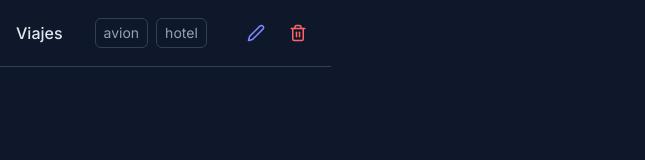
Test: CategoryRow component › should transition to edit mode when Edit button is clicked
Click the button titled "Editar Categoría" at (256, 33), box top-left (239, 16), bottom-right (273, 50)
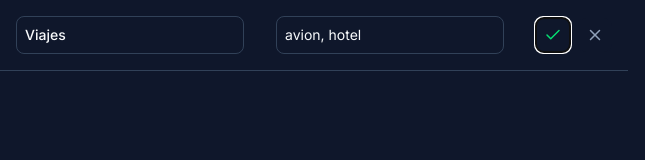
Expected: the 1st field showing "Viajes" is shown, top-left (16, 16), bottom-right (244, 54)
Expected: the 2nd field showing "avion, hotel" is shown, top-left (276, 16), bottom-right (504, 54)
Expected: the button titled "Guardar" is shown, top-left (536, 18), bottom-right (570, 52)
